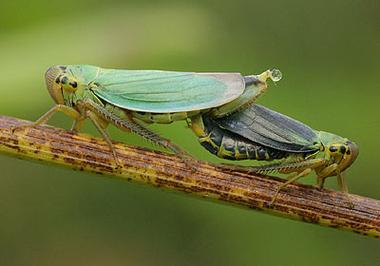Cicadellidae: (34, 64, 272, 155), (184, 99, 358, 191)
